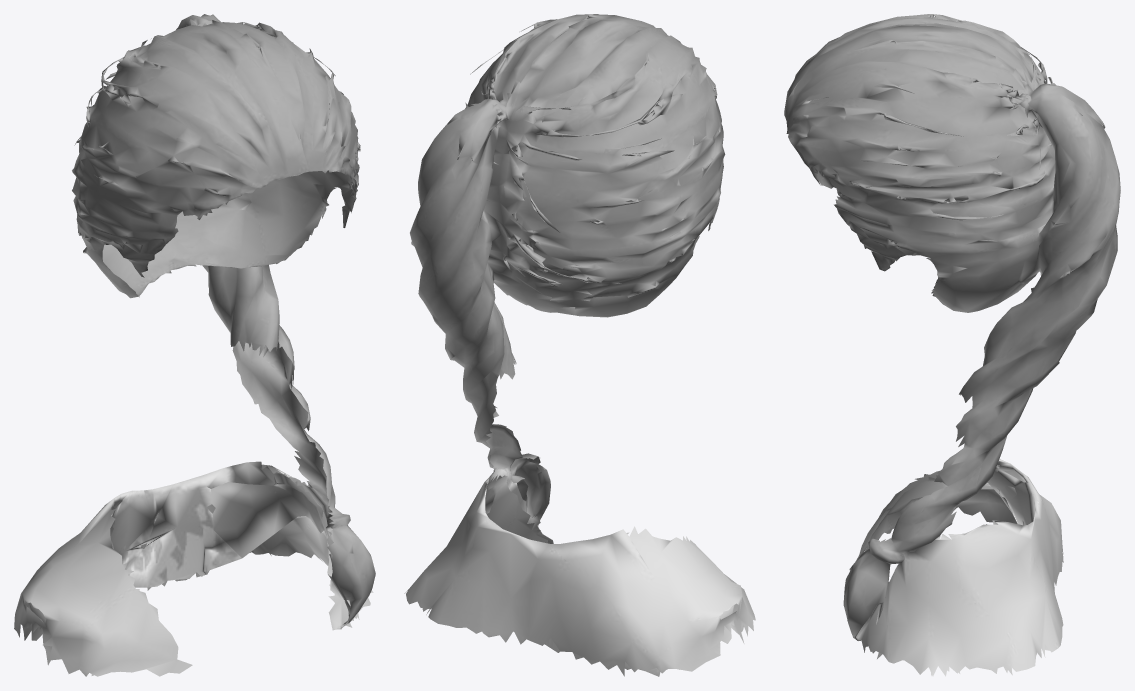
Rendered from hair_braid.glb.
The picture shows the model from 3 angles, left to right: view 1: azimuth 30°, elevation 25°; view 2: azimuth 150°, elevation 25°; view 3: azimuth 270°, elevation 25°; orthographic projection. The views are drawn at different scales.
Visible parts, largest first — view 1: Hair; view 2: Hair; view 3: Hair.
Boxes of the visible parts, x1=… form: Hair: x1=14, y1=14, x2=375, y2=676; Hair: x1=404, y1=14, x2=755, y2=676; Hair: x1=784, y1=14, x2=1120, y2=676.
Size of the model in its own units: 1.21 by 2.15 by 1.13.
1 material, 1 textured.
